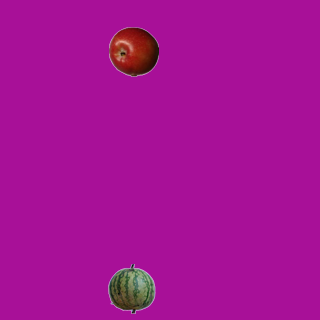Apple Braeburn: (108, 26, 158, 76)
Watermelon: (106, 263, 156, 313)
